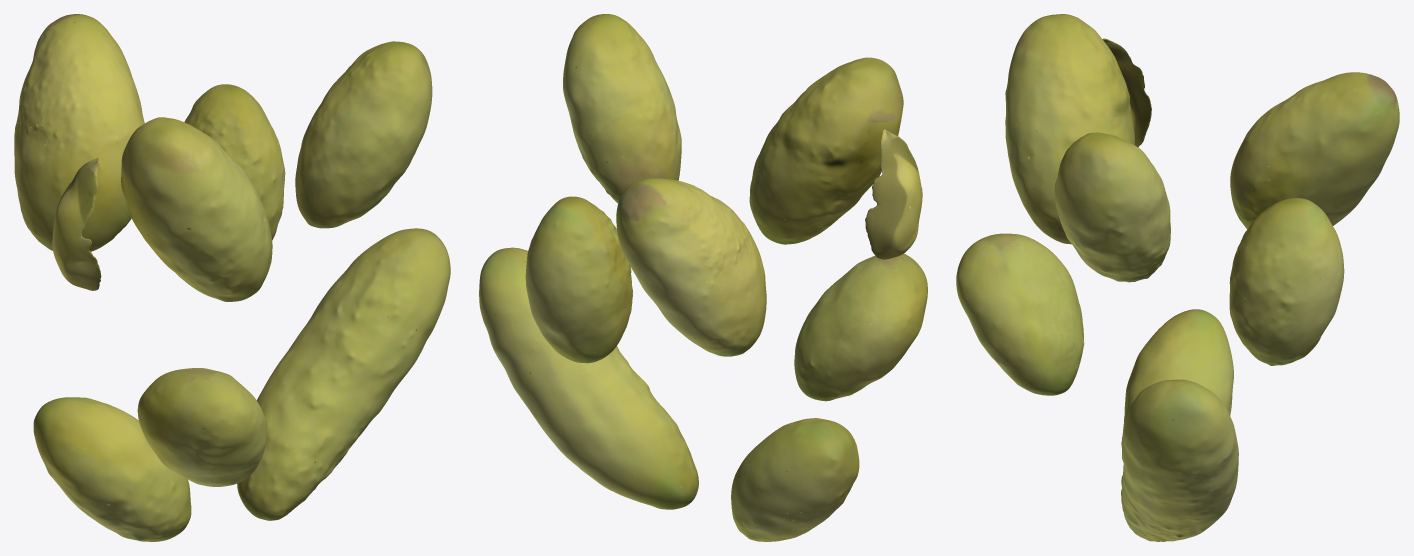
File: Meshy_AI_Five_oval_cells_0425135506_texture.fbx
3 renders of one model, left to right at view 1: azimuth 30°, elevation 25°; view 2: azimuth 150°, elevation 25°; view 3: azimuth 270°, elevation 25°, orthographic. The views are drawn at different scales.
Visible parts, largest first — view 1: Mesh_0; view 2: Mesh_0; view 3: Mesh_0.
Part boxes in pixels (x1,y1,x2,y2): Mesh_0: (14,14,450,541); Mesh_0: (479,14,927,541); Mesh_0: (956,14,1399,541).
Size of the model in its own units: 186 by 200 by 179.
1 material, 1 textured.
